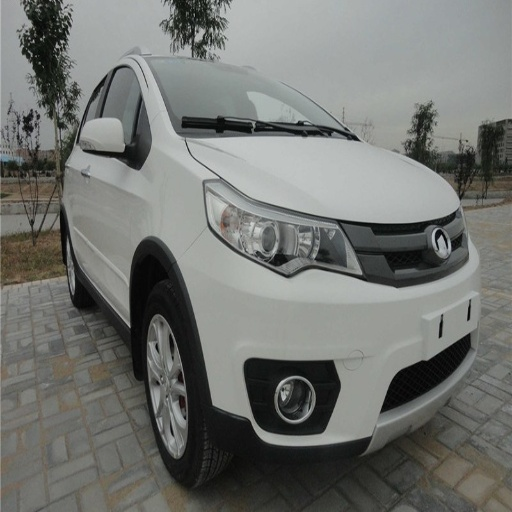front_bumper: (183, 212, 478, 451)
front_right_door: (88, 57, 150, 302)
front_right_light: (204, 180, 367, 278)
